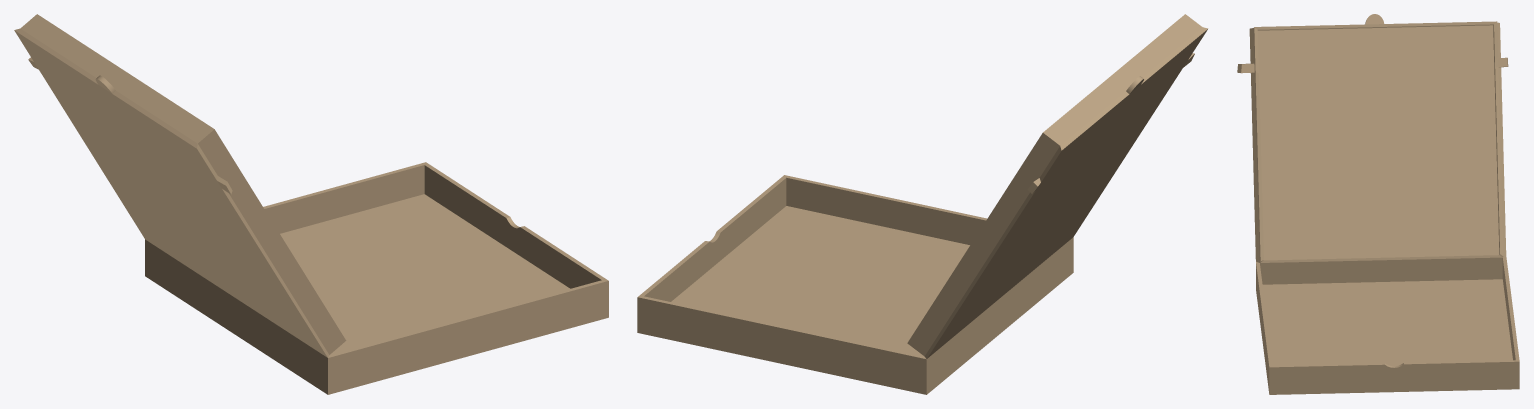
The model's file is PizzaBox.fbx.
3 renders of one model, left to right at view 1: azimuth 30°, elevation 25°; view 2: azimuth 150°, elevation 25°; view 3: azimuth 270°, elevation 25°, orthographic. The views are drawn at different scales.
Visible parts, largest first — view 1: PizzaBox; view 2: PizzaBox; view 3: PizzaBox.
Boxes of the visible parts, x1=… form: PizzaBox: x1=14, y1=14, x2=608, y2=394; PizzaBox: x1=637, y1=14, x2=1208, y2=394; PizzaBox: x1=1237, y1=14, x2=1519, y2=394.
Size of the model in its own units: 169 by 109 by 125.
